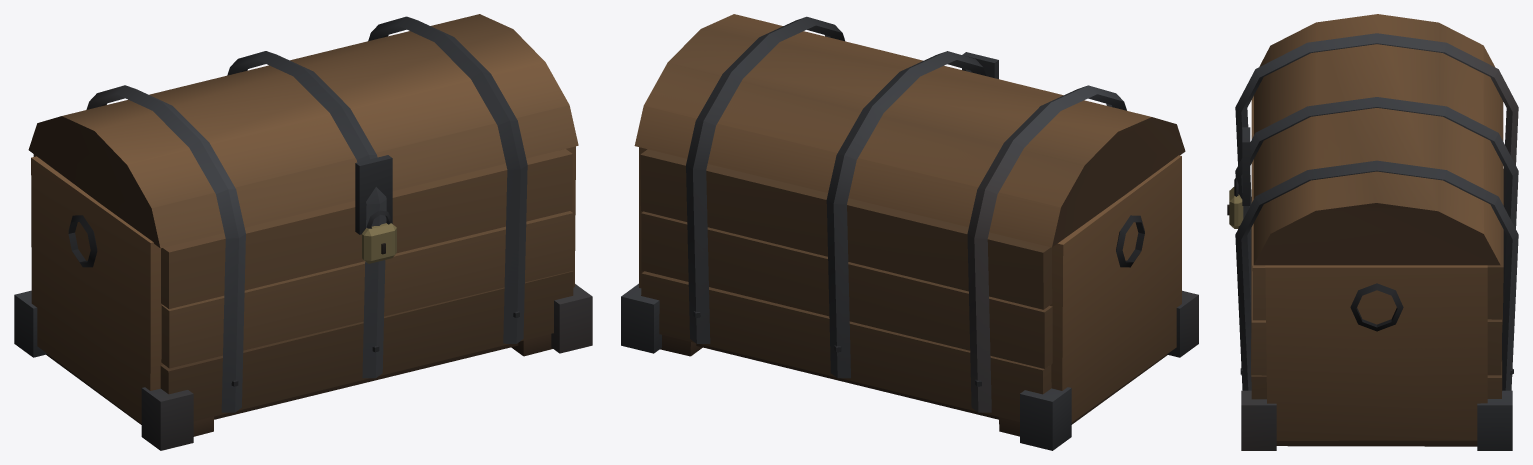
File: ph_int_chest.glb
3 views of the same model, side by side, from view 1: azimuth 30°, elevation 25°; view 2: azimuth 150°, elevation 25°; view 3: azimuth 270°, elevation 25° (orthographic). The views are drawn at different scales.
Parts seen in each view (by area): view 1: ph_int_chest; view 2: ph_int_chest; view 3: ph_int_chest.
Part boxes in pixels (x1=…): ph_int_chest: x1=14, y1=14, x2=592, y2=450; ph_int_chest: x1=621, y1=14, x2=1198, y2=450; ph_int_chest: x1=1227, y1=14, x2=1518, y2=450.
Size of the model in its own units: 0.9539 by 0.568 by 0.58.
